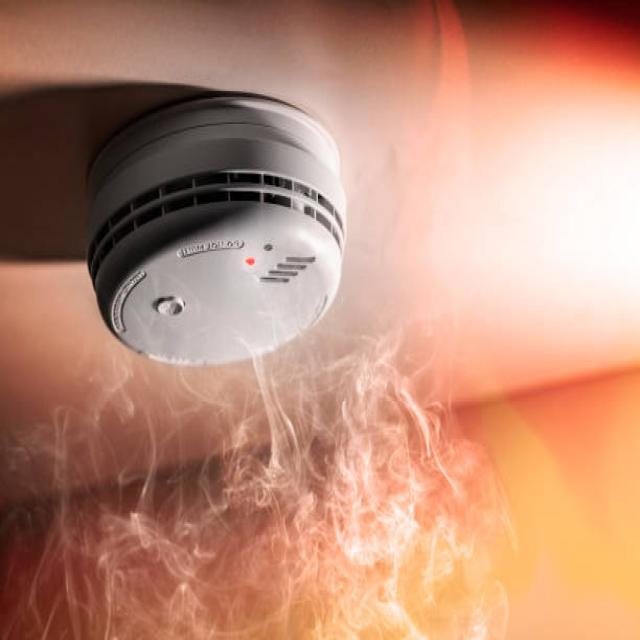smoke: (7, 354, 454, 634)
